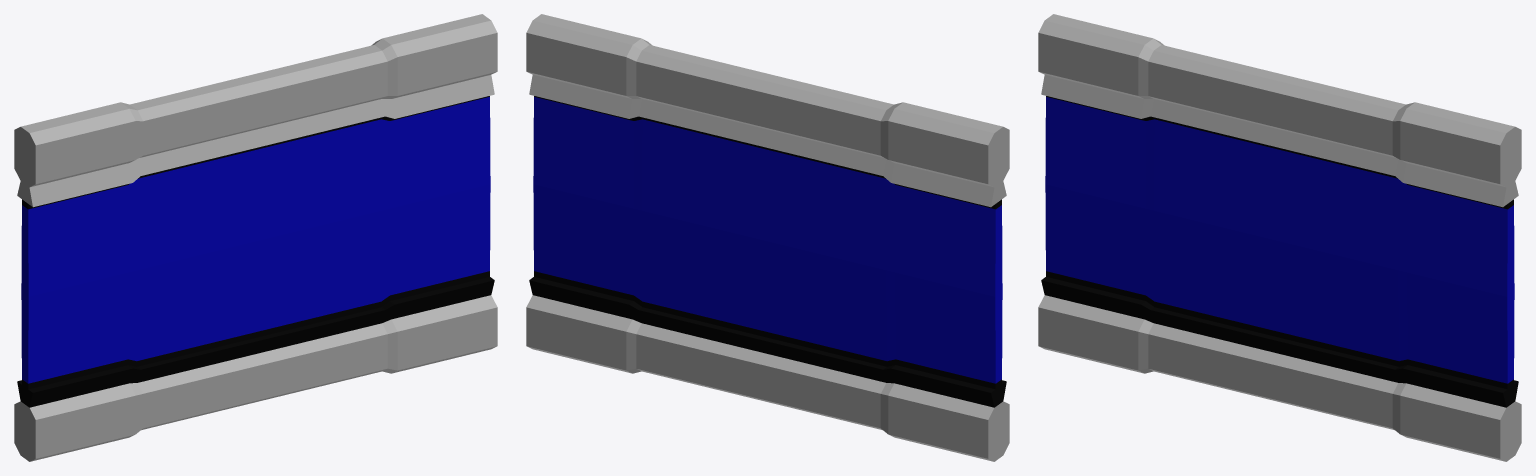
Rendered from Window.fbx.
The picture shows the model from 3 angles, left to right: view 1: azimuth 30°, elevation 25°; view 2: azimuth 150°, elevation 25°; view 3: azimuth 330°, elevation 25°; orthographic projection.
Parts seen in each view (by area): view 1: Cube; view 2: Cube; view 3: Cube.
Boxes of the visible parts, <box> form: Cube: <box>14,14,497,461</box>; Cube: <box>526,14,1009,461</box>; Cube: <box>1038,14,1521,461</box>.
Bounding box in the file's own units: 2489 × 1693 × 200.
